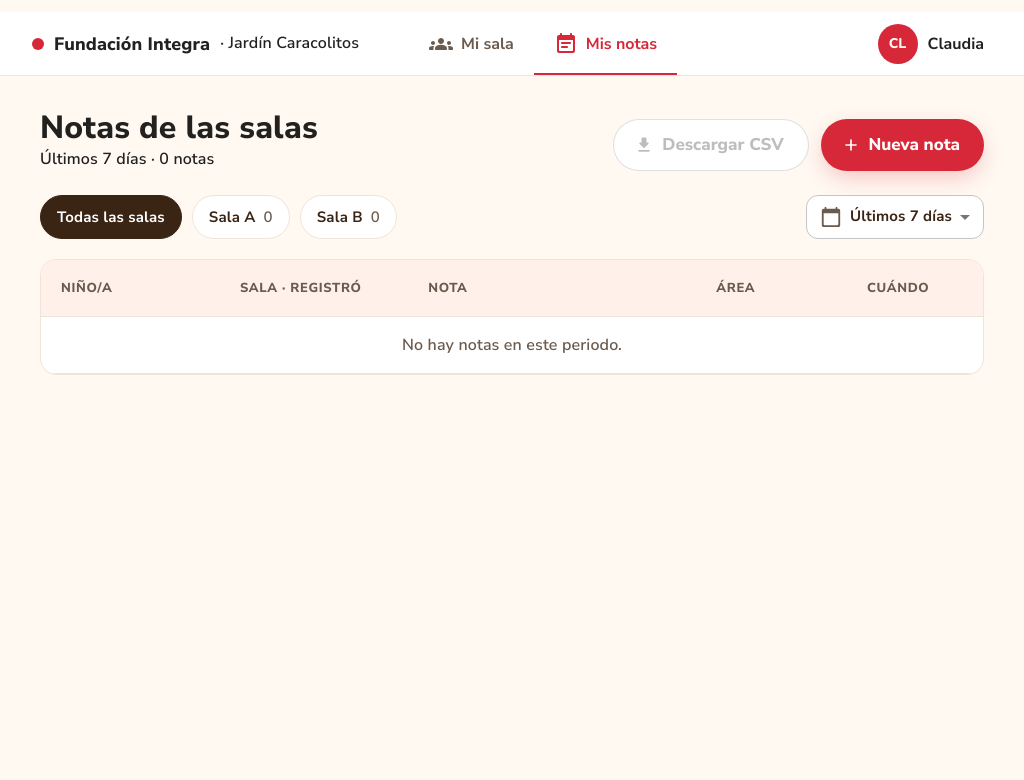
Test: Pestañas de escritorio › vuelve a Mi sala con la sala elegida, también desde la pestaña
The width and height of the screenshot is (1024, 780).
What coordinates should you click on to do the following:
click the tab "Mi sala"
I would click on:
 (471, 44)
Its box is [409,12,534,76].
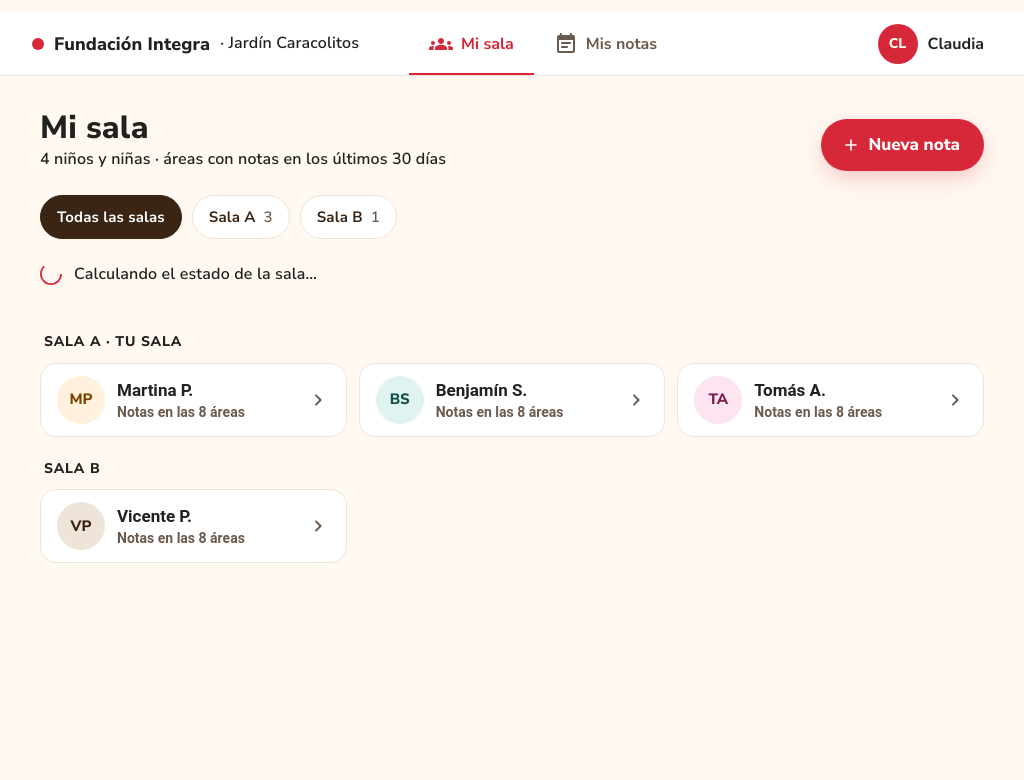
What coordinates should you click on to do the following:
click the button "Sala B1"
I would click on:
 (348, 217)
Its box is [300,195,397,239].
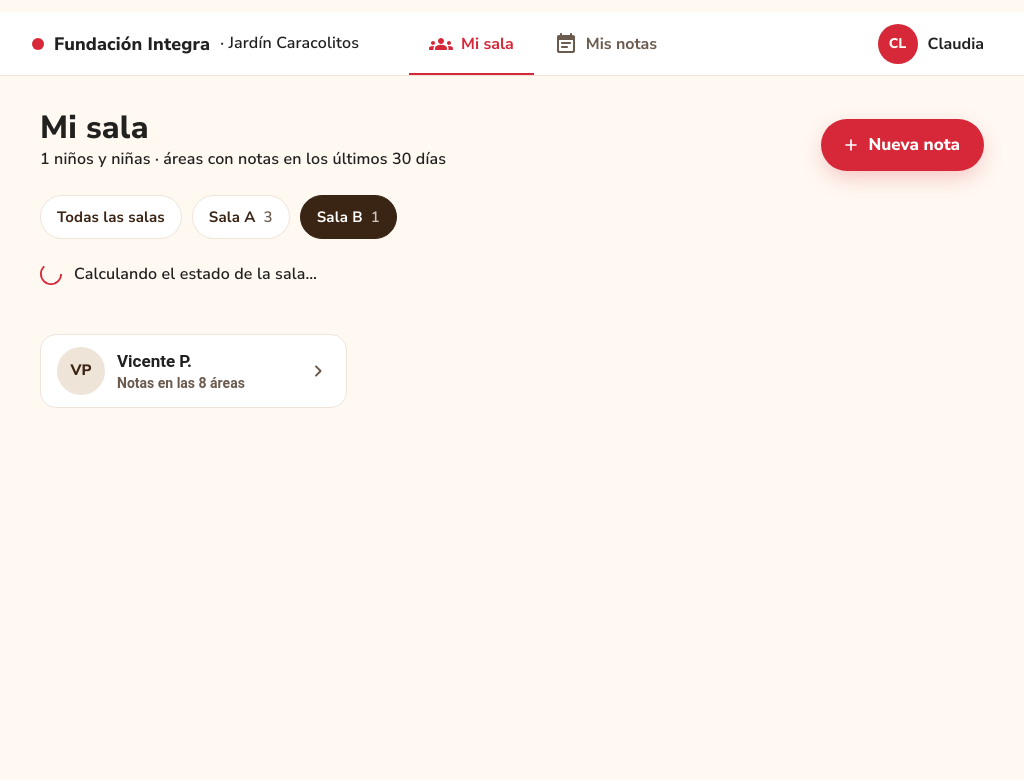
What coordinates should you click on to do the following:
click the button "VP Vicente P. Notas en las 8 áreas"
I would click on:
 (193, 371)
Its box is [40,334,347,408].
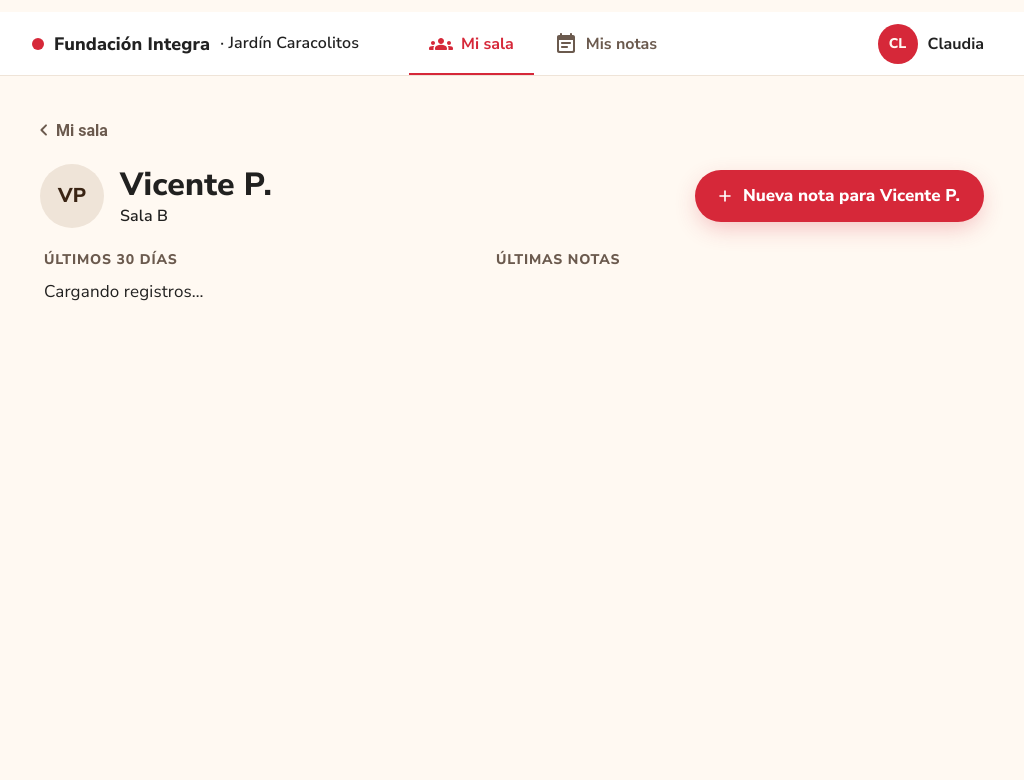
What coordinates should you click on to do the following:
click the button with aria-label "Volver a Mi sala"
I would click on:
 (76, 130)
Its box is [32,108,120,152].
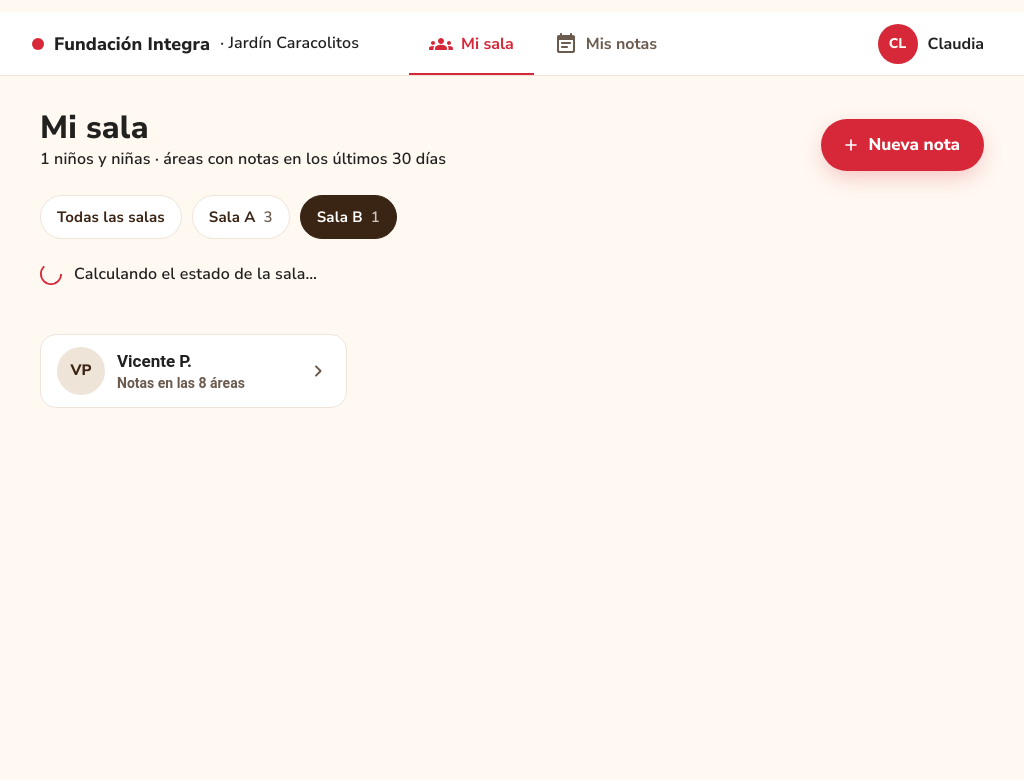
Expected: the button "VP Vicente P. Notas en las 8 áreas" is shown
What coordinates should you click on to do the following:
click the button "VP Vicente P. Notas en las 8 áreas"
I would click on:
 (193, 371)
Its box is [40,334,347,408].
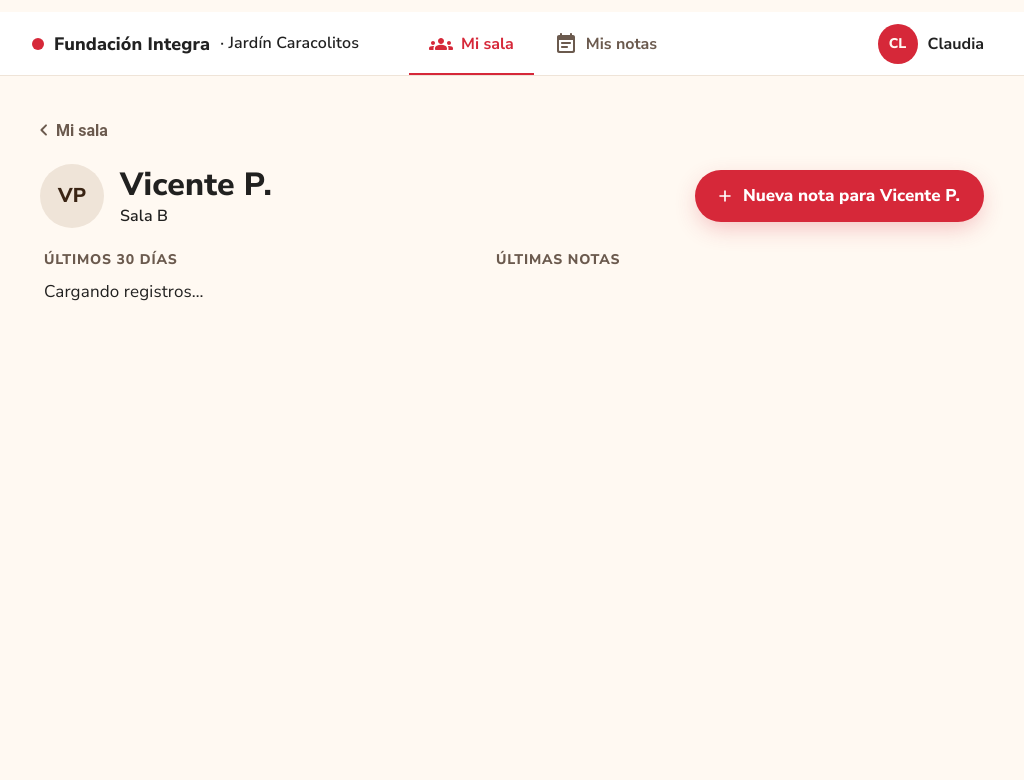
What coordinates should you click on to do the following:
click the tab "Mi sala"
I would click on:
 (471, 44)
Its box is [409,12,534,76].
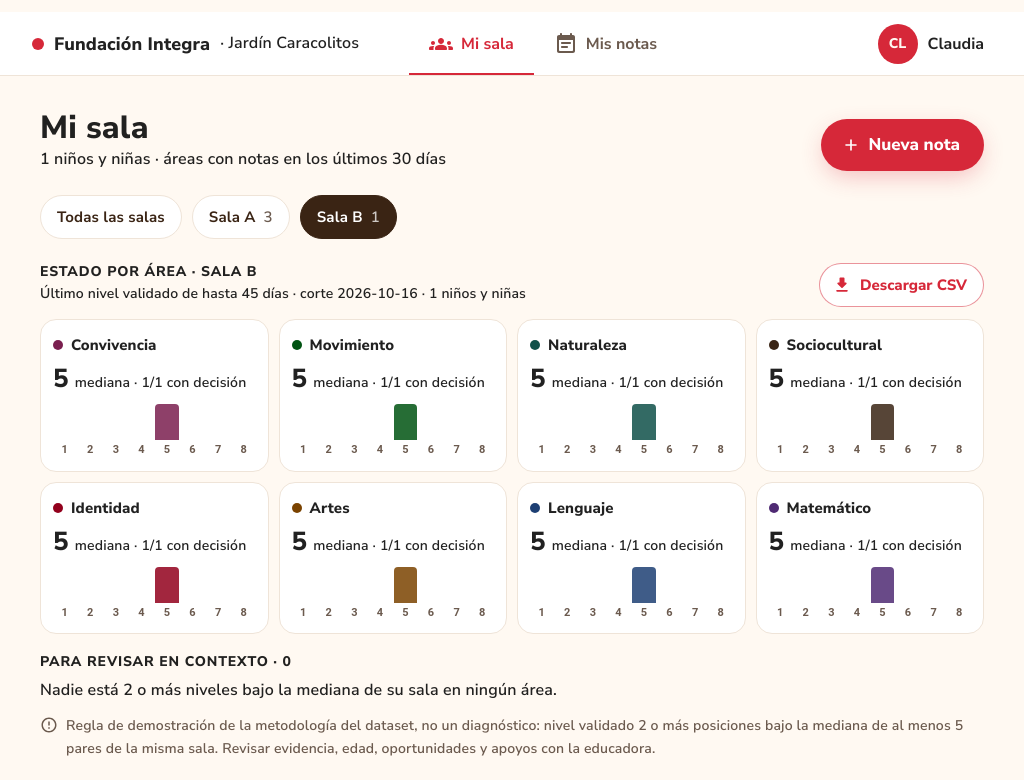
Expected: the heading "Mi sala" is shown, [40,106,149,149]
